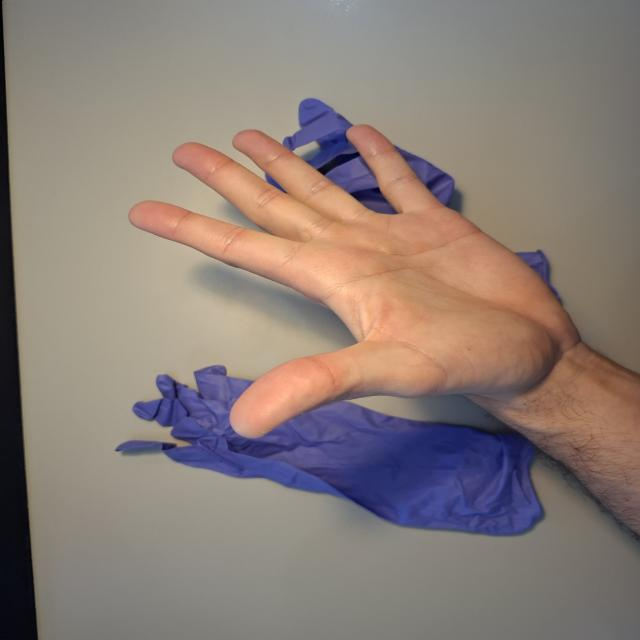glove_off: (123, 122, 581, 440)
